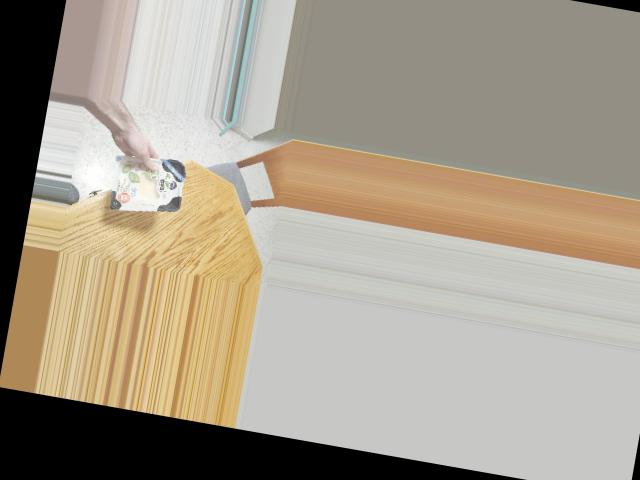cheese: (96, 143, 198, 213)
